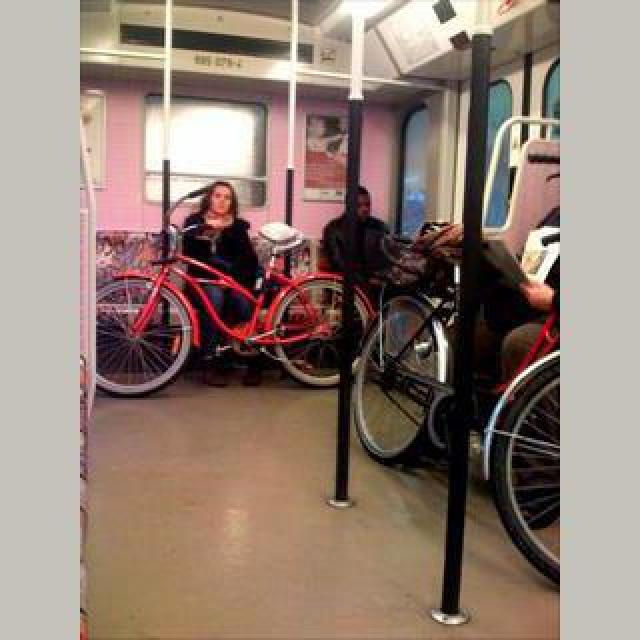MC-Bike: (172, 180, 262, 300), (322, 186, 396, 282)
Person: (350, 214, 556, 620), (96, 214, 354, 394)
